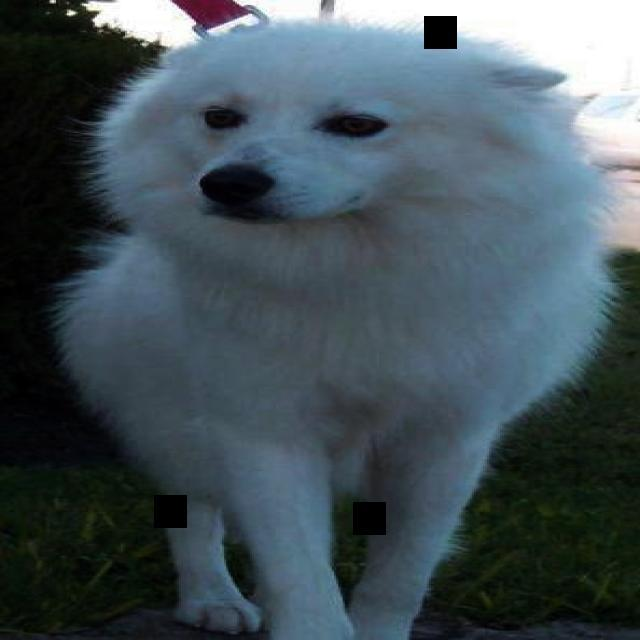adult_dog: (40, 16, 611, 640)
